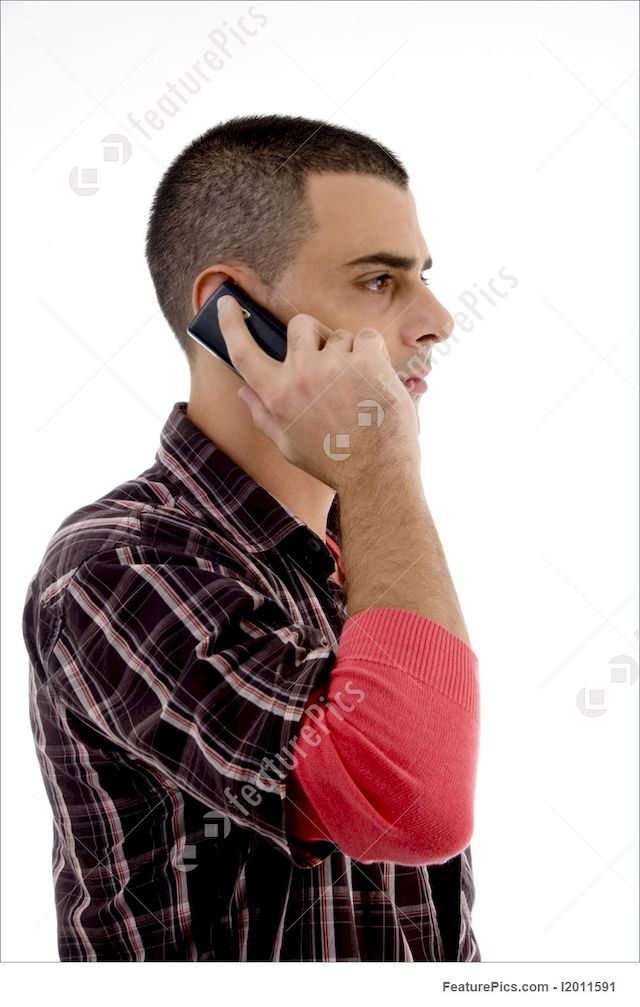phone: (174, 289, 331, 387)
talk: (163, 232, 459, 483)
